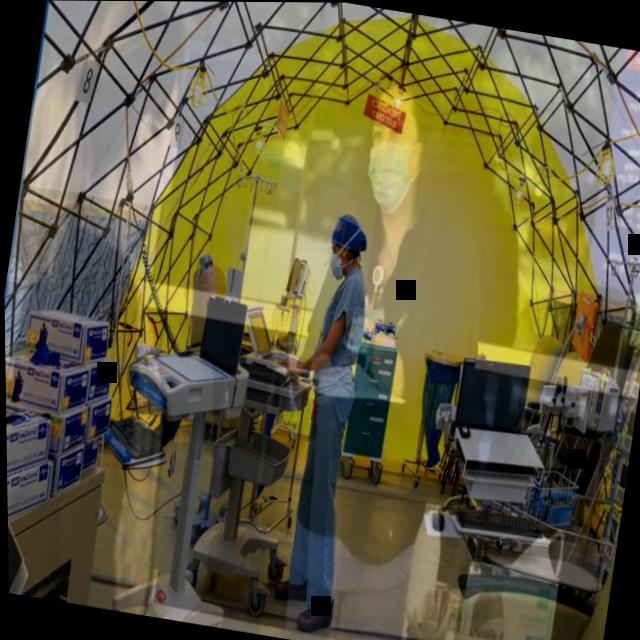Mask: (359, 84, 428, 217), (326, 241, 344, 280)
